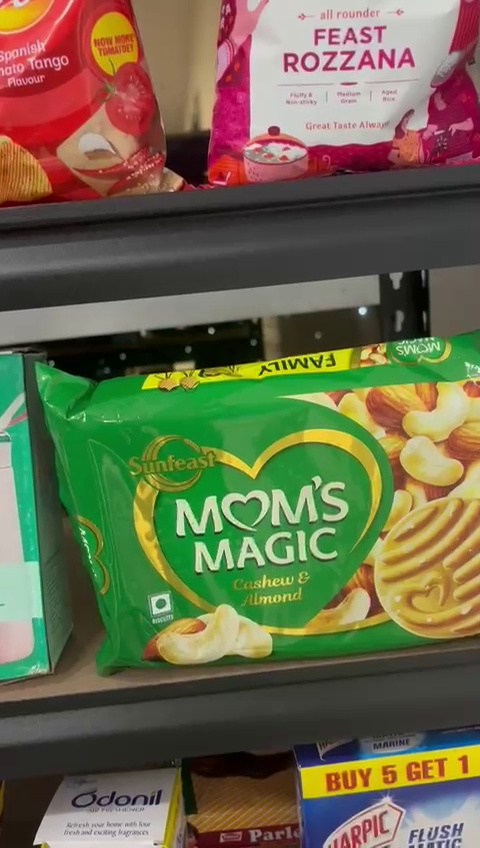Moms magic: (49, 375, 480, 668)
